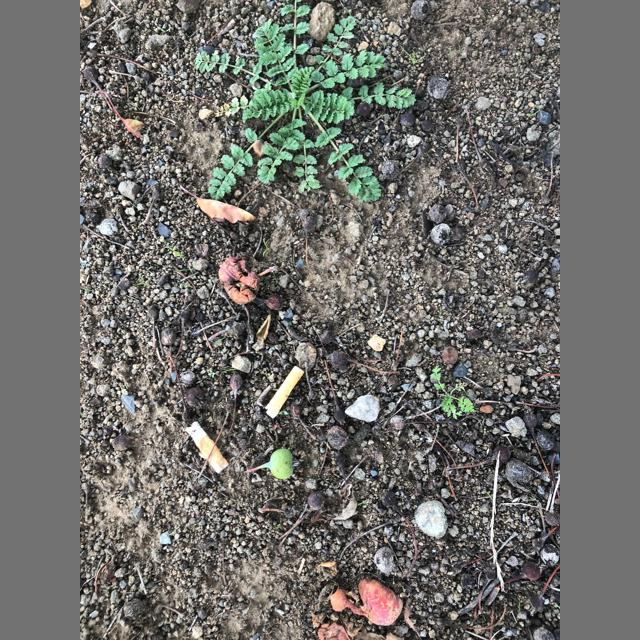litter: (185, 421, 229, 473), (266, 366, 304, 418)
